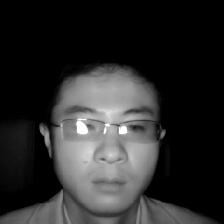normal: (34, 43, 173, 216)
